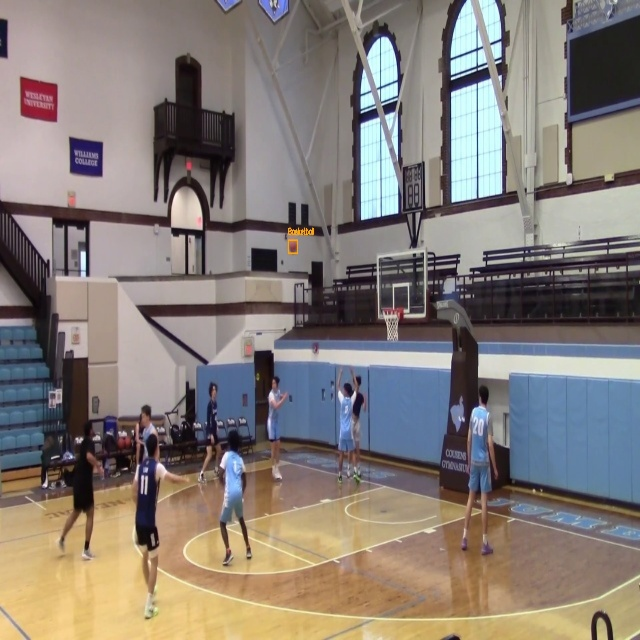Basketball: (288, 240, 298, 253)
